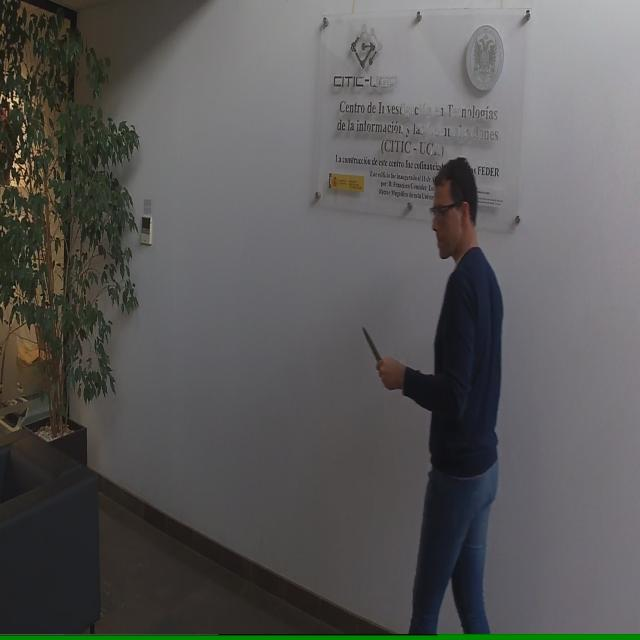knife: (359, 319, 394, 393)
